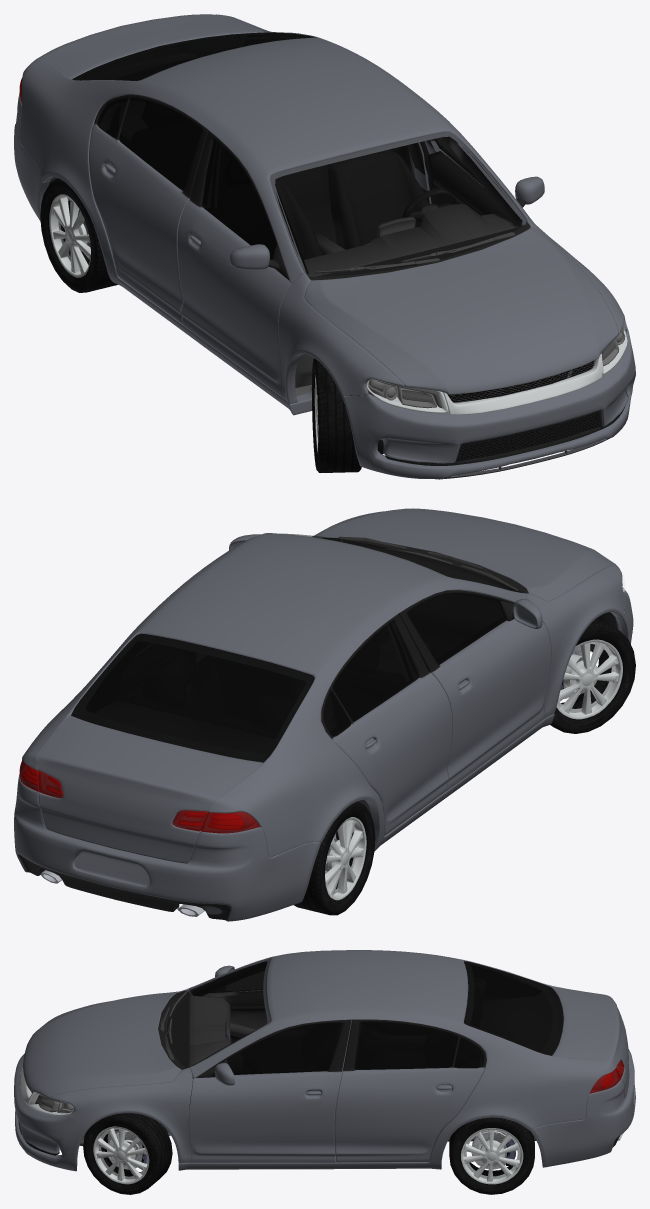
3 renders of one model, top to bottom at view 1: azimuth 30°, elevation 25°; view 2: azimuth 150°, elevation 25°; view 3: azimuth 270°, elevation 25°, orthographic. The views are drawn at different scales.
Parts seen in each view (by area): view 1: sedan-unibody_65, hood_60, windshield_102, bumper-front_8, door-front-r_17, door-rear-r_23, fender-front-r_33, front-seat-backrest_39, dashboard_13, trunk_99, door-rear-window-glass-r_27, door-front-window-glass-r_19 (+20 smaller); view 2: sedan-unibody_65, glass-rear_42, trunk_99, bumper-rear_10, door-front-r_17, door-rear-r_23, hood_60, fender-front-r_33, door-rear-window-glass-r_27, door-front-window-glass-r_19, generic-wheel.001_126, generic-tire-low.001_125 (+8 smaller); view 3: sedan-unibody_65, door-front-l_16, door-rear-l_22, hood_60, windshield_102, glass-rear_42, fender-front-l_32, bumper-rear_10, trunk_99, door-rear-window-glass-l_26, door-front-window-glass-l_18, bumper-front_8 (+14 smaller).
Boxes of the visible parts, x1=… form: sedan-unibody_65: x1=19, y1=14, x2=533, y2=415; hood_60: x1=304, y1=227, x2=618, y2=394; windshield_102: x1=270, y1=132, x2=527, y2=276; bumper-front_8: x1=342, y1=328, x2=635, y2=479; door-front-r_17: x1=177, y1=131, x2=291, y2=396; door-rear-r_23: x1=89, y1=94, x2=208, y2=323; fender-front-r_33: x1=278, y1=273, x2=404, y2=404; front-seat-backrest_39: x1=328, y1=149, x2=428, y2=249; dashboard_13: x1=304, y1=204, x2=520, y2=276; trunk_99: x1=39, y1=14, x2=264, y2=79; door-rear-window-glass-r_27: x1=119, y1=98, x2=201, y2=190; door-front-window-glass-r_19: x1=202, y1=139, x2=276, y2=259; sedan-unibody_65: x1=20, y1=533, x2=554, y2=857; glass-rear_42: x1=71, y1=633, x2=314, y2=762; trunk_99: x1=37, y1=715, x2=263, y2=863; bumper-rear_10: x1=14, y1=774, x2=320, y2=921; door-front-r_17: x1=398, y1=590, x2=551, y2=790; door-rear-r_23: x1=321, y1=614, x2=452, y2=835; hood_60: x1=312, y1=508, x2=615, y2=601; fender-front-r_33: x1=525, y1=564, x2=625, y2=718; door-rear-window-glass-r_27: x1=333, y1=621, x2=419, y2=721; door-front-window-glass-r_19: x1=407, y1=593, x2=505, y2=664; generic-wheel.001_126: x1=556, y1=639, x2=622, y2=719; generic-tire-low.001_125: x1=550, y1=617, x2=635, y2=733; sedan-unibody_65: x1=178, y1=950, x2=621, y2=1170; door-front-l_16: x1=188, y1=1019, x2=351, y2=1162; door-rear-l_22: x1=334, y1=1019, x2=486, y2=1162; hood_60: x1=23, y1=991, x2=181, y2=1098; windshield_102: x1=167, y1=958, x2=270, y2=1068; glass-rear_42: x1=464, y1=961, x2=563, y2=1055; fender-front-l_32: x1=49, y1=1067, x2=192, y2=1163; bumper-rear_10: x1=530, y1=1049, x2=635, y2=1167; trunk_99: x1=552, y1=987, x2=629, y2=1098; door-rear-window-glass-l_26: x1=354, y1=1022, x2=457, y2=1069; door-front-window-glass-l_18: x1=227, y1=1023, x2=342, y2=1074; bumper-front_8: x1=14, y1=1054, x2=89, y2=1171.
Bounding box in the file's own units: 2.16 × 1.5 × 4.98.
Materials: 23 (11 with a texture image).
